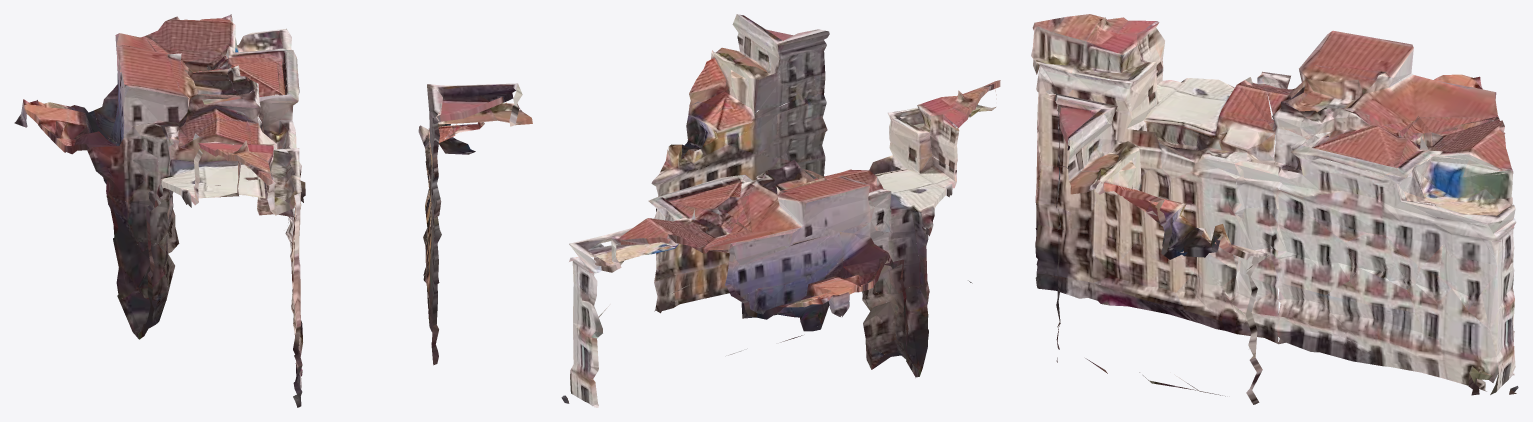
3 views of the same model, side by side, from view 1: azimuth 30°, elevation 25°; view 2: azimuth 150°, elevation 25°; view 3: azimuth 270°, elevation 25° (orthographic). The views are drawn at different scales.
Parts seen in each view (by area): view 1: Mesh_0; view 2: Mesh_0; view 3: Mesh_0.
Part boxes in pixels (<box>): Mesh_0: <box>14,14,532,407</box>; Mesh_0: <box>561,14,1000,407</box>; Mesh_0: <box>1031,14,1518,404</box>.
Size of the model in its own units: 33.31 by 25.25 by 41.45.
Materials: 2 (2 with a texture image).
